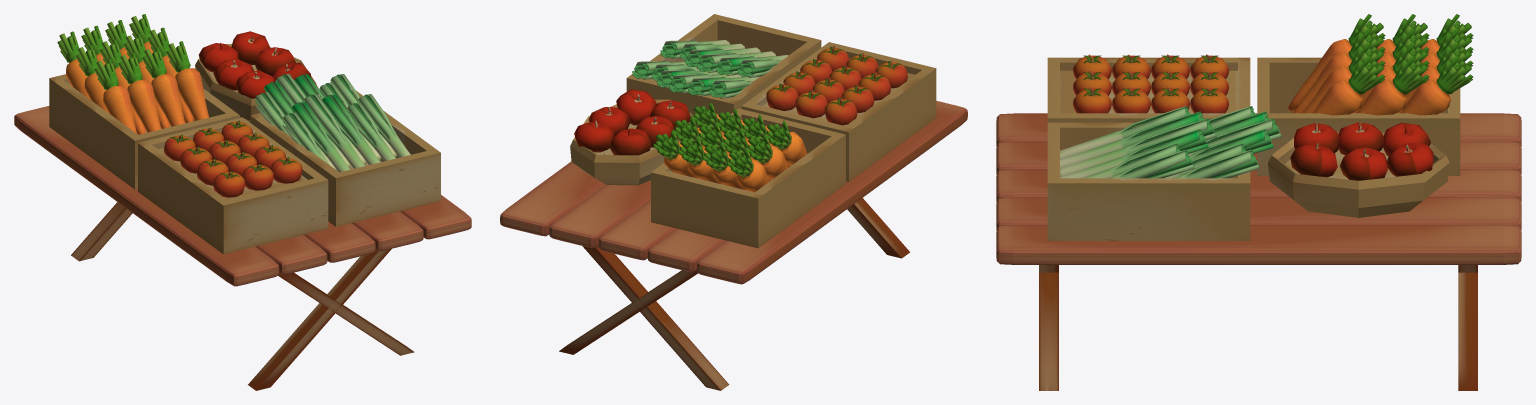
The model's file is stall 3.fbx.
3 renders of one model, left to right at view 1: azimuth 30°, elevation 25°; view 2: azimuth 150°, elevation 25°; view 3: azimuth 270°, elevation 25°, orthographic. The views are drawn at different scales.
Parts seen in each view (by area): view 1: Cube.002, Cube.004, Cylinder, Cylinder.003, Cube.005, Cube.006, Cube.023, Cube.001, Sphere.001, Cube.009; view 2: Cube.002, Cube.006, Cylinder, Cube.004, Cube.023, Cube.001, Cylinder.003, Cube.005, Sphere.001, Cube.009; view 3: Cube.002, Cube.005, Cylinder, Cylinder.003, Cube.023, Cube.006, Sphere.001, Cube.009, Cube.001, Cube.004, Plane.003.
Part boxes in pixels (<box>): Cube.002: <box>14,106,471,286</box>; Cube.004: <box>138,117,328,254</box>; Cylinder: <box>57,14,208,134</box>; Cylinder.003: <box>254,74,410,172</box>; Cube.005: <box>250,90,440,226</box>; Cube.006: <box>49,74,239,189</box>; Cube.023: <box>164,120,302,197</box>; Cube.001: <box>71,202,414,390</box>; Sphere.001: <box>199,31,310,98</box>; Cube.009: <box>195,44,318,122</box>; Cube.002: <box>500,101,967,284</box>; Cube.006: <box>651,108,845,248</box>; Cylinder: <box>653,102,807,192</box>; Cube.004: <box>741,42,936,181</box>; Cube.023: <box>766,46,907,125</box>; Cube.001: <box>559,198,909,390</box>; Cylinder.003: <box>632,40,788,98</box>; Cube.005: <box>626,14,821,127</box>; Sphere.001: <box>574,89,690,155</box>; Cube.009: <box>570,99,696,185</box>; Cube.002: <box>996,113,1521,264</box>; Cube.005: <box>1047,122,1250,240</box>; Cylinder: <box>1288,14,1473,115</box>; Cylinder.003: <box>1060,106,1281,178</box>; Cube.023: <box>1073,54,1229,113</box>; Cube.006: <box>1257,57,1460,175</box>; Sphere.001: <box>1290,122,1433,180</box>; Cube.009: <box>1268,132,1449,217</box>; Cube.001: <box>1039,265,1477,390</box>; Cube.004: <box>1047,57,1250,122</box>; Plane.003: <box>1060,70,1237,113</box>.
Size of the model in its own units: 824 by 762 by 1316.
Materials: 1 (1 with a texture image).
